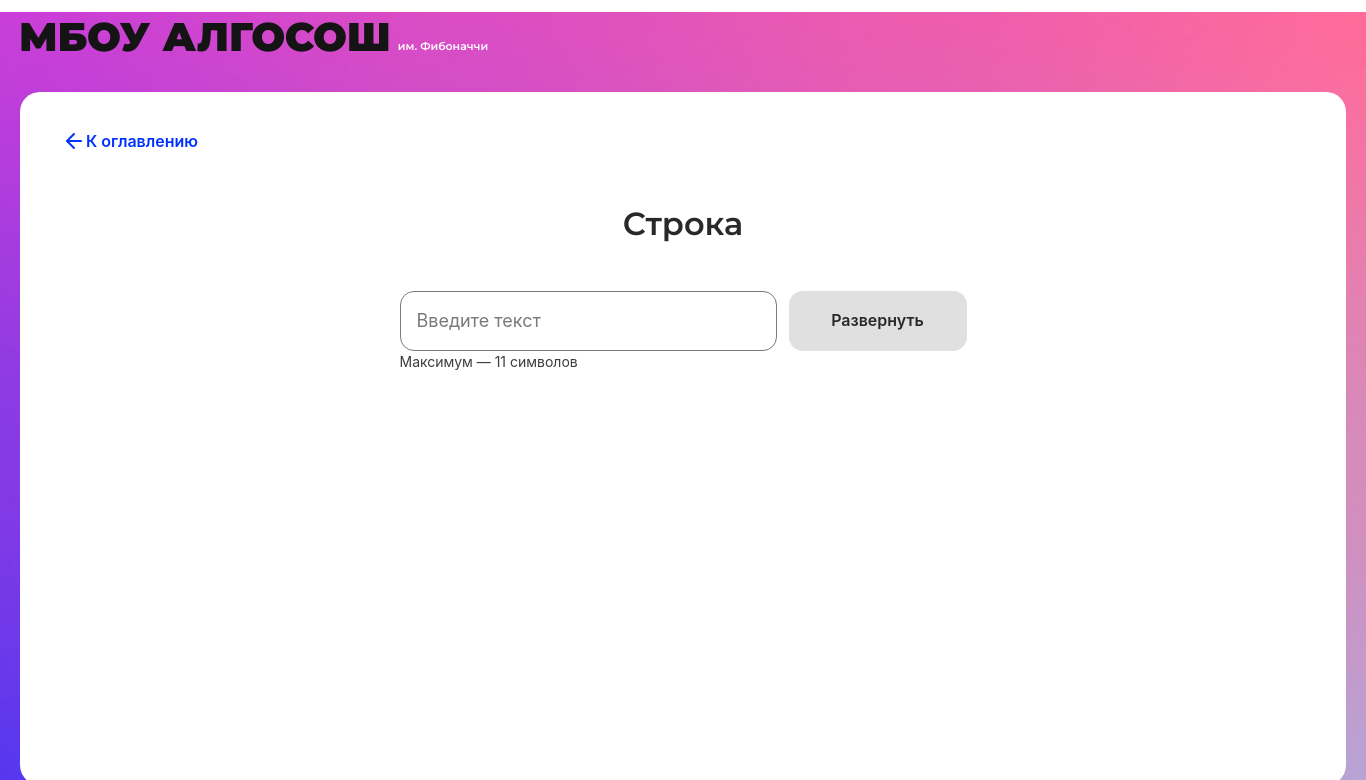
Test: Testing String Page › should have a disabled submit button when input is empty
Expected: the submit button is disabled, [789,291,967,351]
Expected: the element named "stringInput" is enabled
Type "19" into the field named "stringInput" at (589, 321), box [400,291,777,351]
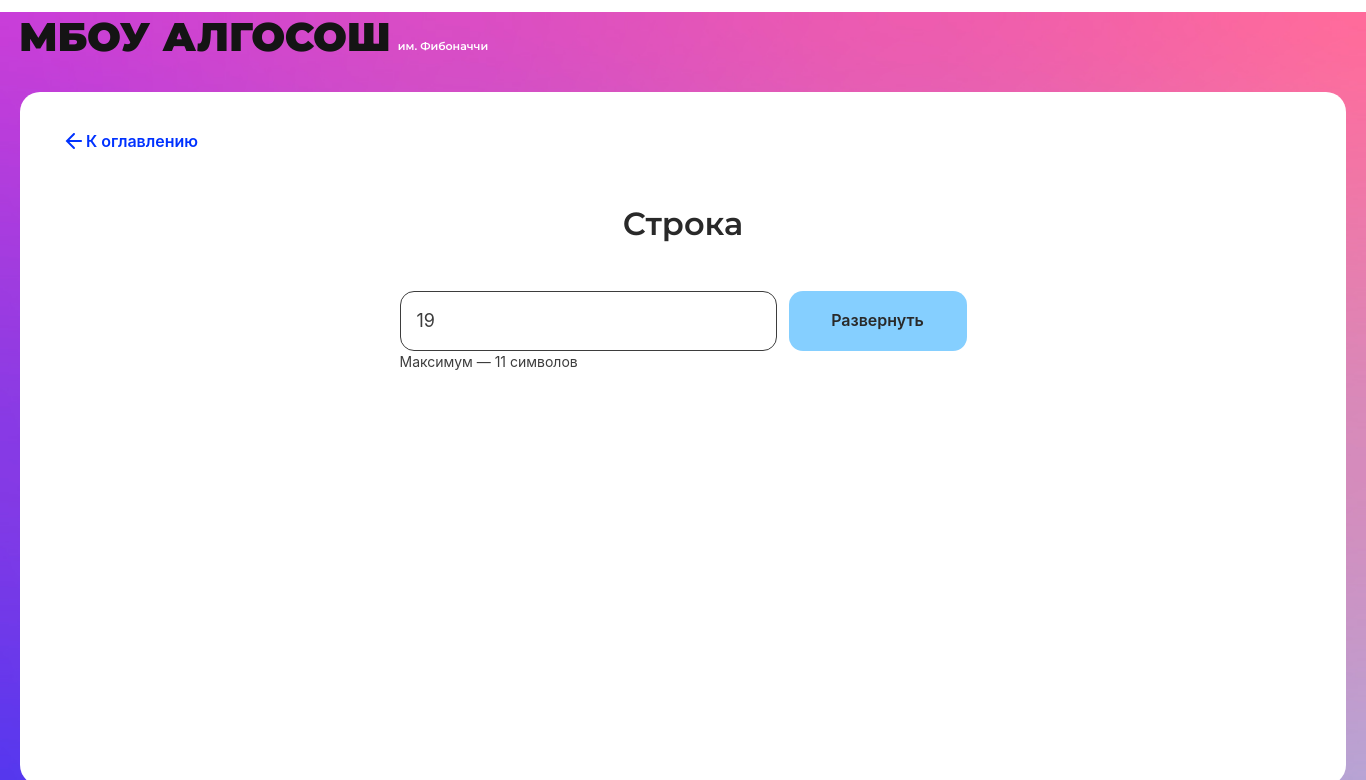
Expected: the submit button is enabled
Clear the field named "stringInput" at (589, 321), box [400,291,777,351]
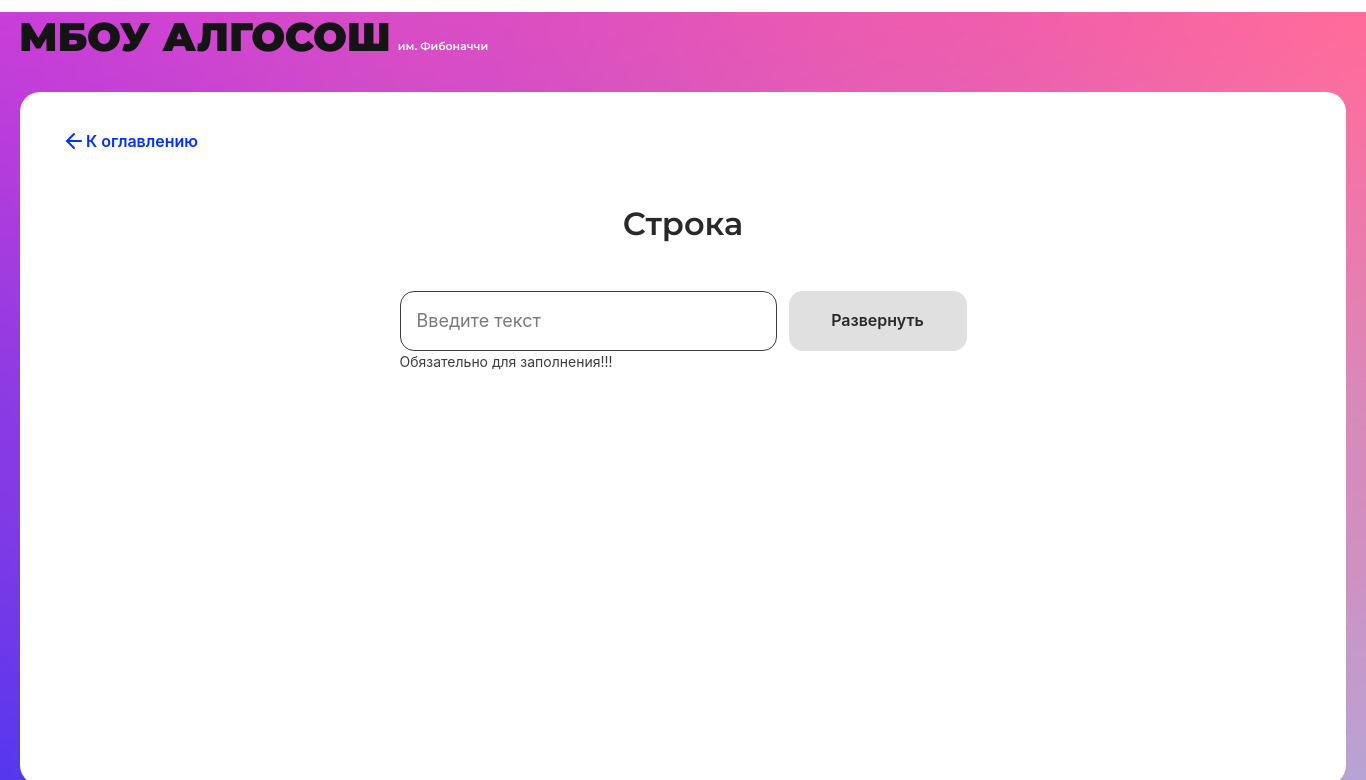
Expected: the submit button is disabled, [789,291,967,351]
